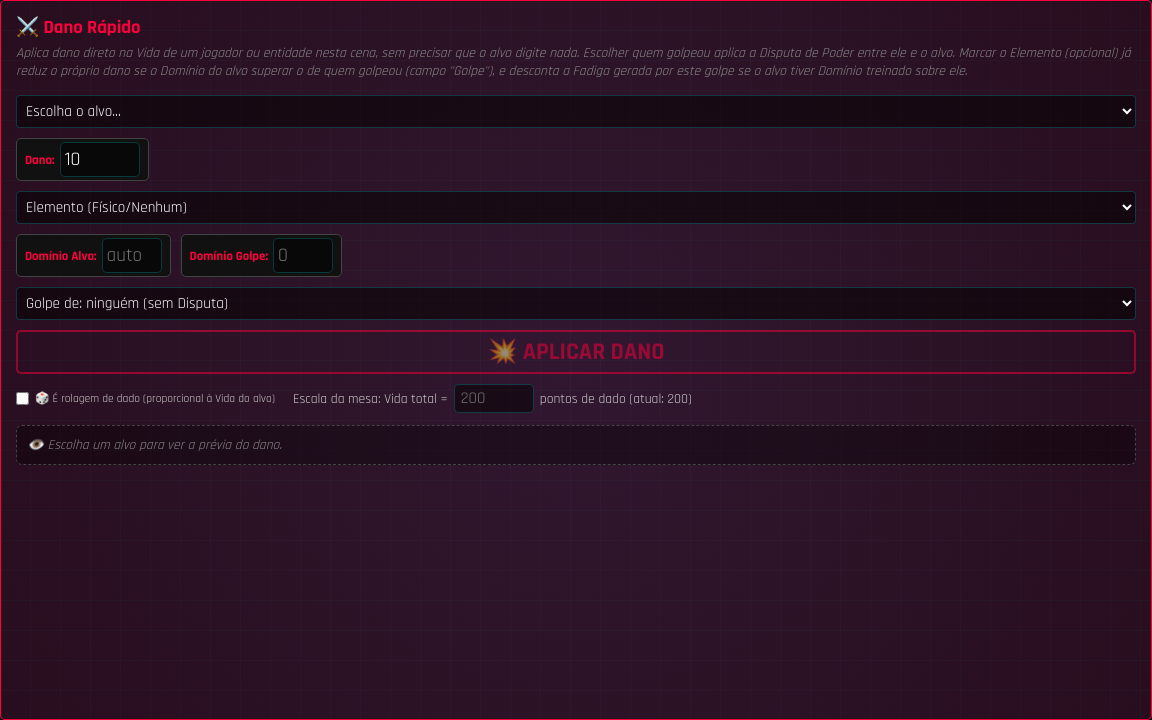
it: PreviaDanoRapido (Dano Rápido do Mestre) › dano zero pede um dano maior que zero
The image size is (1152, 720).
Select "🤖 Goblin" in the 1st dropdown at [576, 112], box [16,95,1136,128]
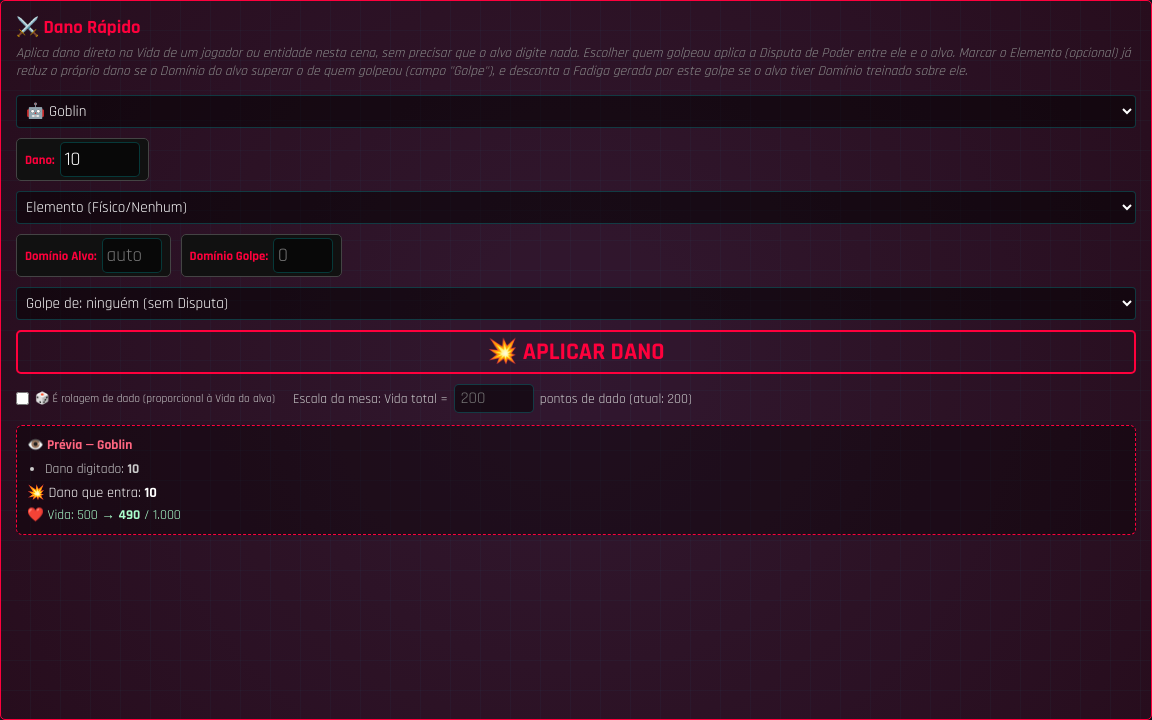
Replace the text in the number field showing "10" with "0" at [100, 160], box [60,142,140,177]
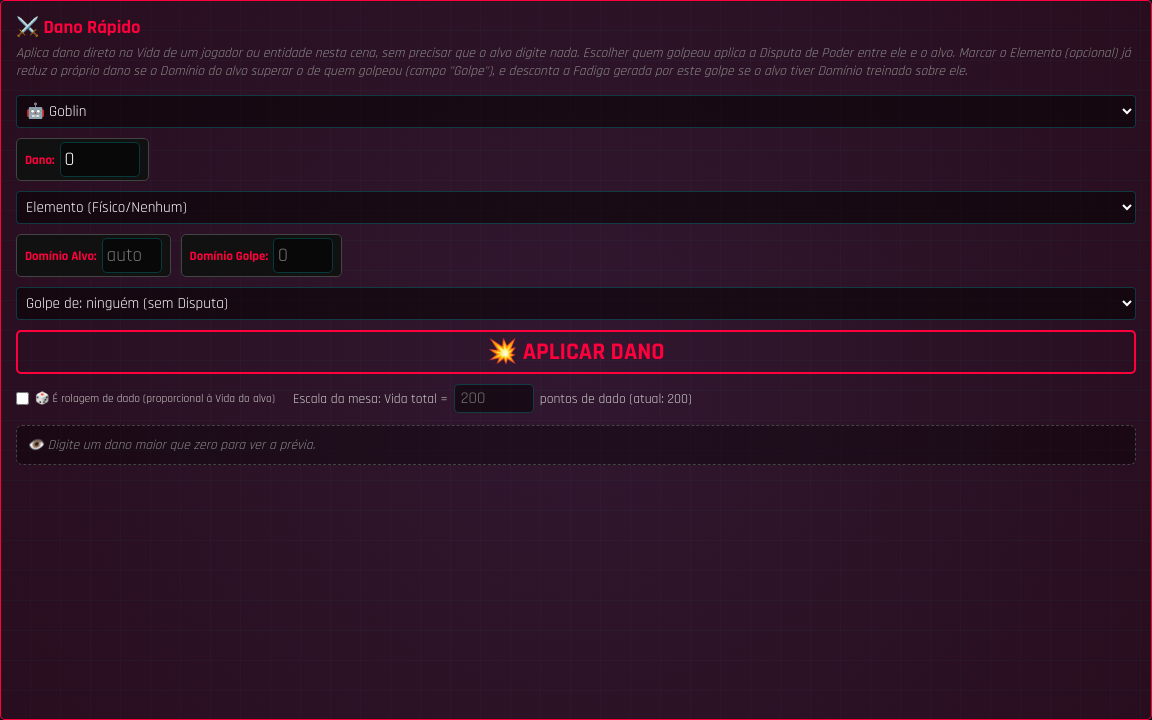
Result: the text "👁️ Digite um dano maior que zero para ver a prévia." is shown at [16,425,1136,465]
